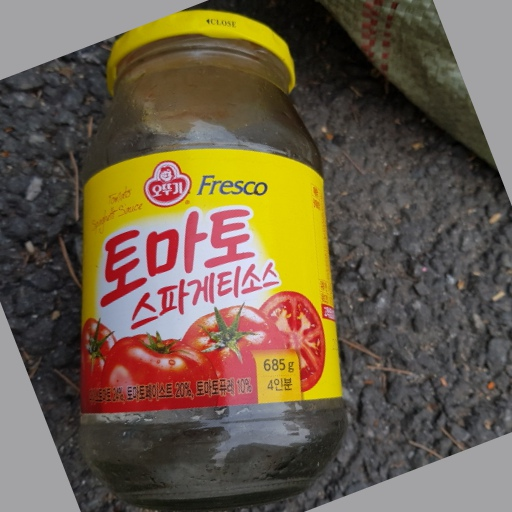Glass_5: (77, 11, 346, 499)
